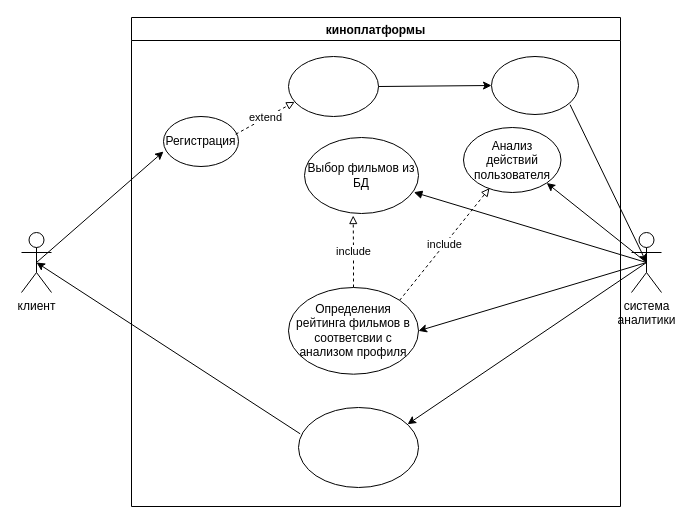
This 692x524 diagram has some shape labels left out. Here are the shapes that lost their labels. From the top down, the centre of each, then its label:
(333,86): Просмотр доступных фильмов
(534,85): оценка фильма
(358,447): Показ фильмов с высоким рейтингом пользователю
